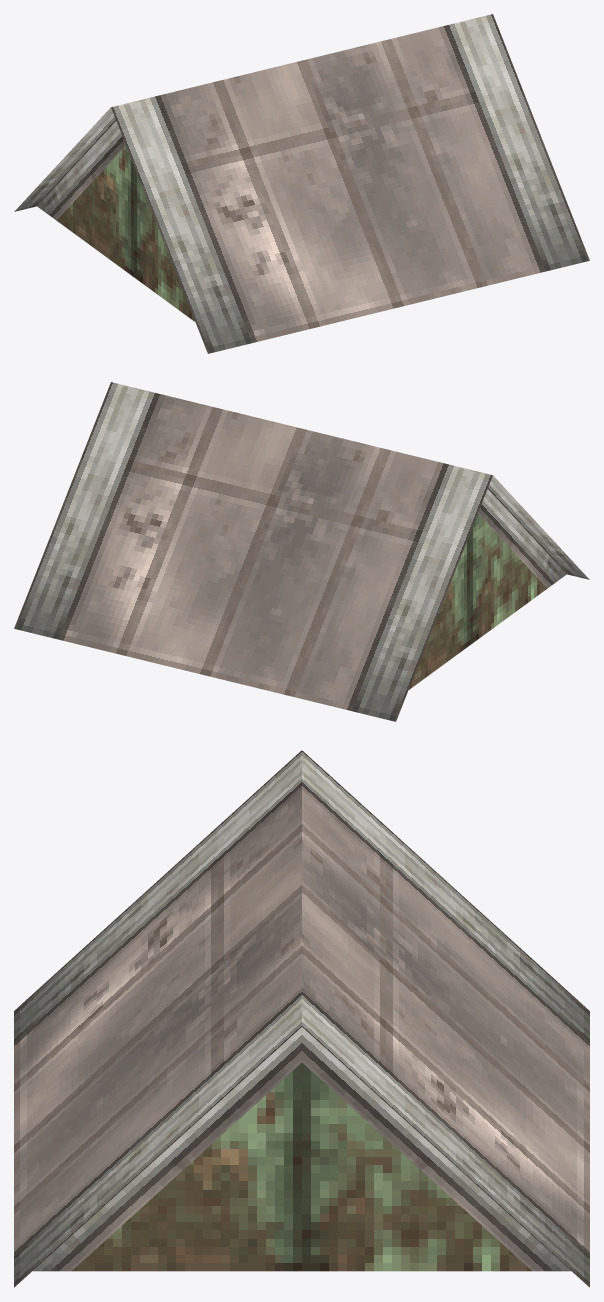
Rendered from wall-b-roof-detailed.glb.
The picture shows the model from 3 angles, top to bottom: view 1: azimuth 30°, elevation 25°; view 2: azimuth 150°, elevation 25°; view 3: azimuth 270°, elevation 25°; orthographic projection. The views are drawn at different scales.
Parts seen in each view (by area): view 1: wall-b-roof-detailed; view 2: wall-b-roof-detailed; view 3: wall-b-roof-detailed.
Boxes of the visible parts, x1,y1,x2,y2 form: wall-b-roof-detailed: [14, 14, 589, 353]; wall-b-roof-detailed: [14, 382, 589, 721]; wall-b-roof-detailed: [14, 750, 589, 1287].
Bounding box in the file's own units: 1.14 × 0.5 × 1.
3 materials, 3 textured.
